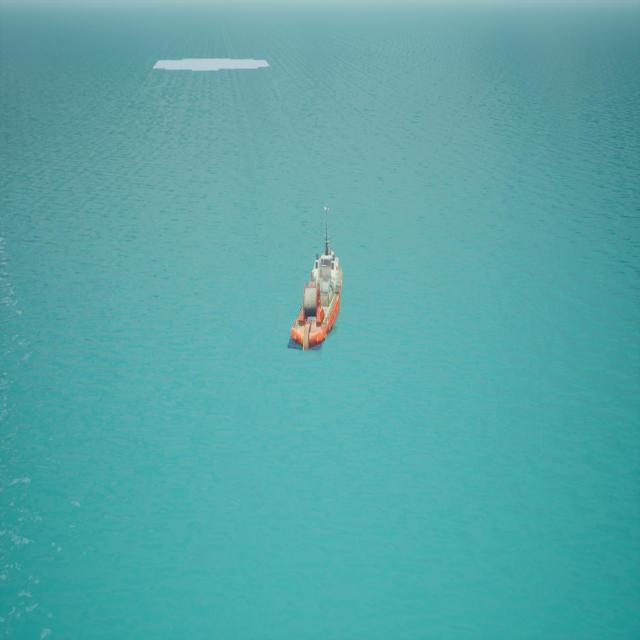tug boat: (292, 199, 346, 354)
